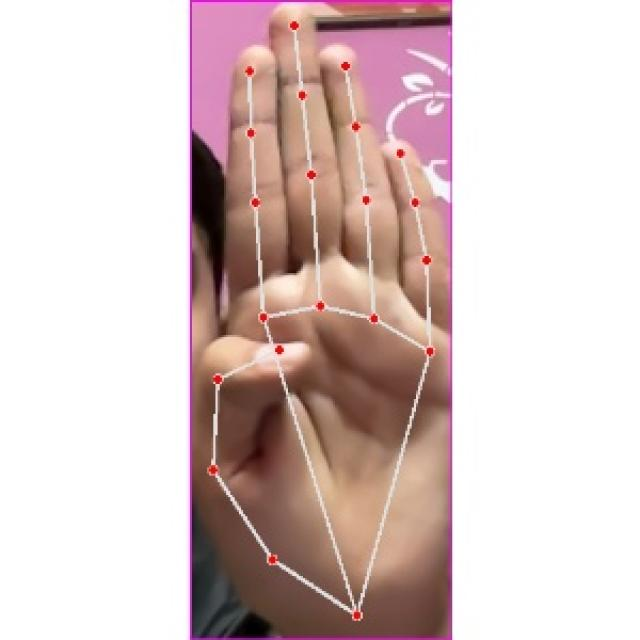B: (187, 0, 450, 637)
